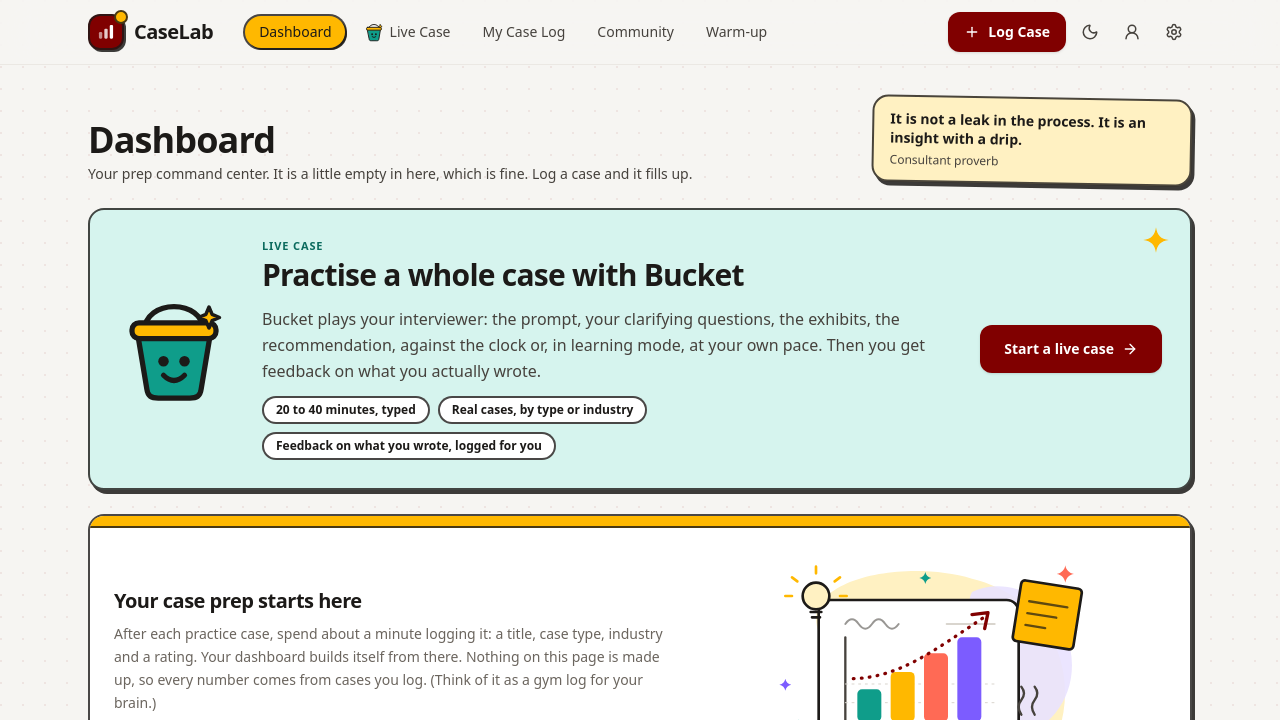
How I like to meet › saves a link and a time zone, and shows them as saved only once the database has them
expect the heading "Dashboard" is shown: met, box left=88, top=120, right=275, bottom=160
Step 1. Click the button named "Profile and privacy" → click(1132, 32), box left=1114, top=14, right=1150, bottom=50
(page scrolled)
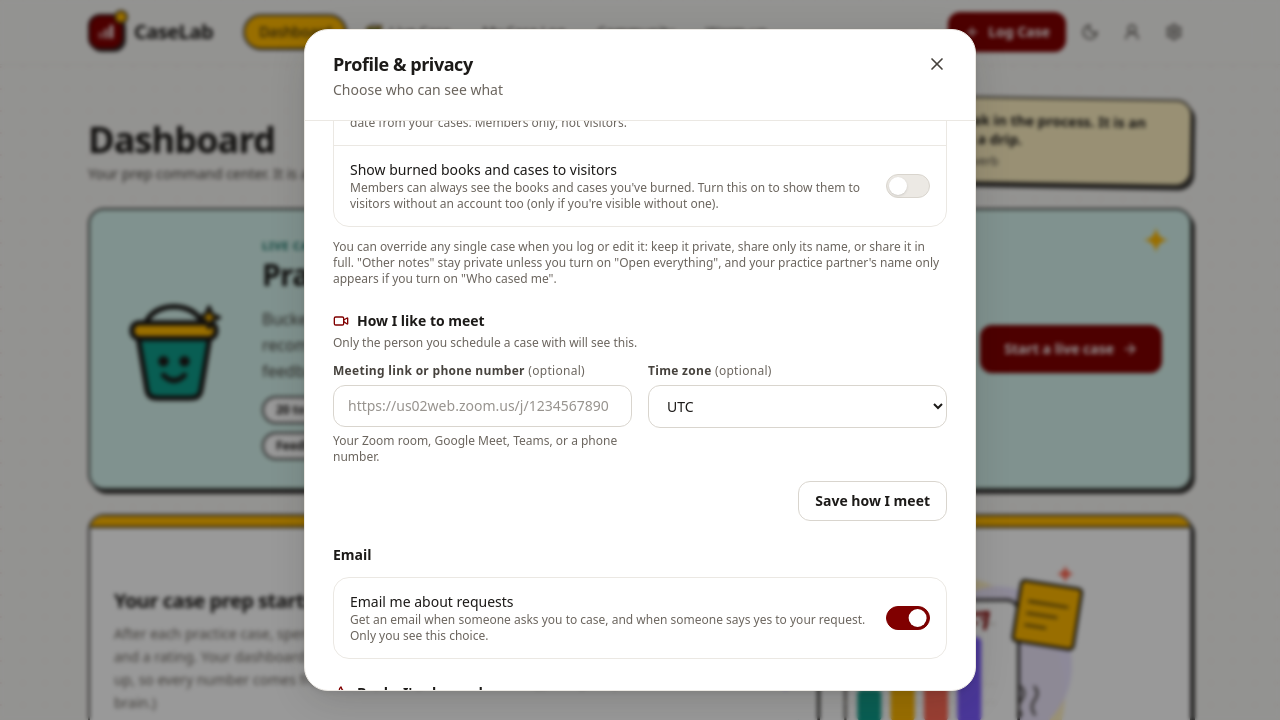
expect the element "How I like to meet" is shown: met, box left=333, top=311, right=947, bottom=521
Step 2. Type "https://us02web.zoom.us/j/9876543210" into the field labelled "Meeting link or phone number (optional)" → (482, 406), box left=333, top=385, right=632, bottom=427
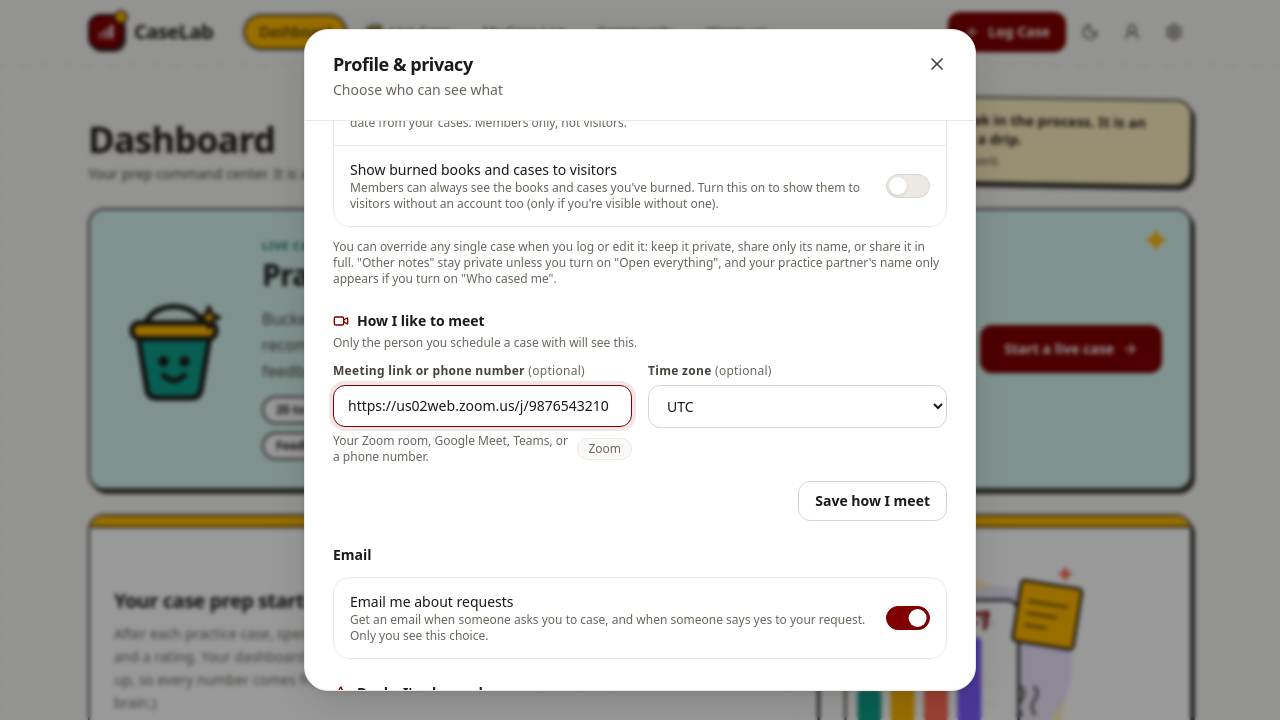
Step 3. Select "America/Chicago" in the dropdown labelled "Time zone (optional)" → (798, 406), box left=648, top=385, right=947, bottom=428
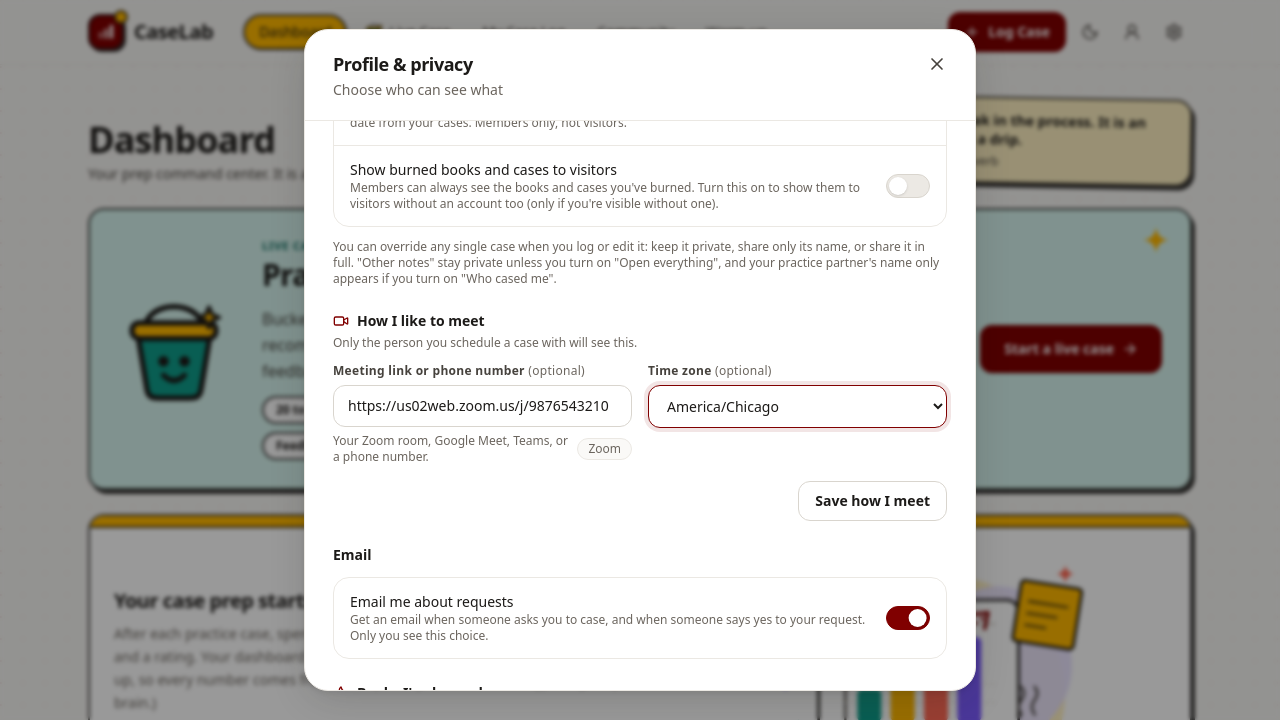
Step 4. Click the button "Save how I meet" → click(873, 501), box left=798, top=481, right=947, bottom=521
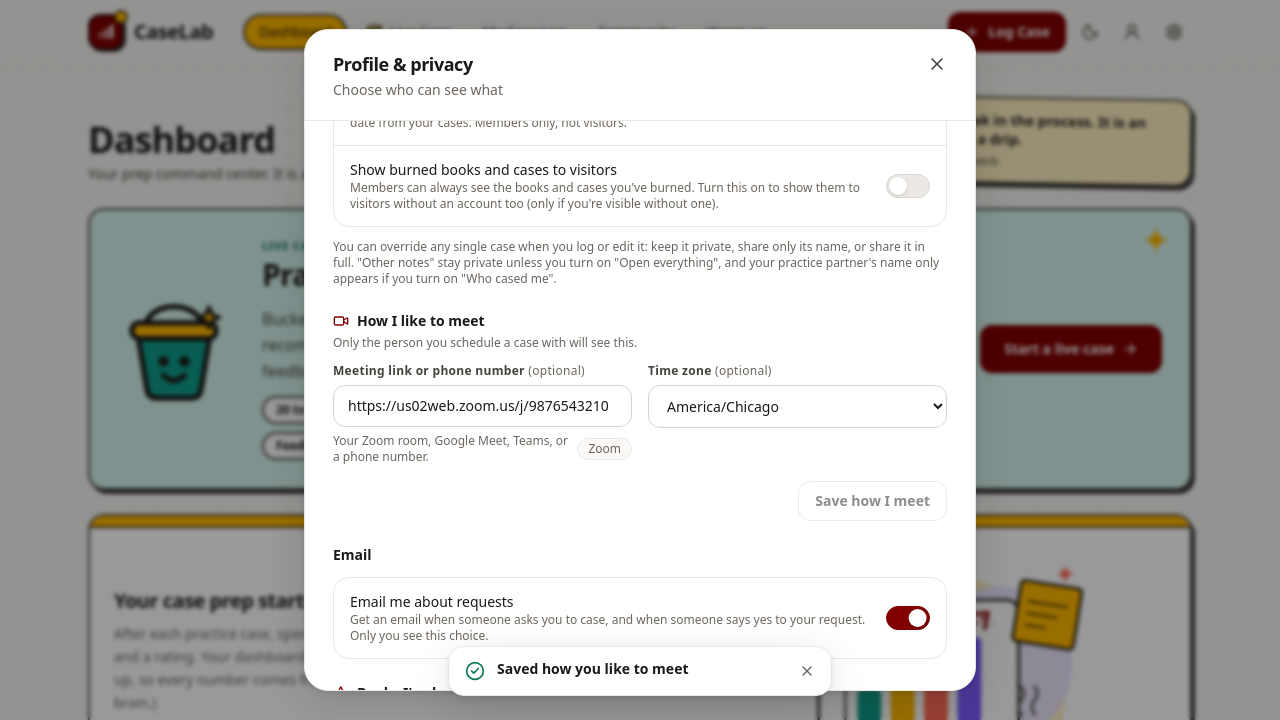
expect the text "Saved how you like to meet" is shown: met, box left=497, top=659, right=688, bottom=678
expect the button "Save how I meet" is disabled: met, box left=798, top=481, right=947, bottom=521
